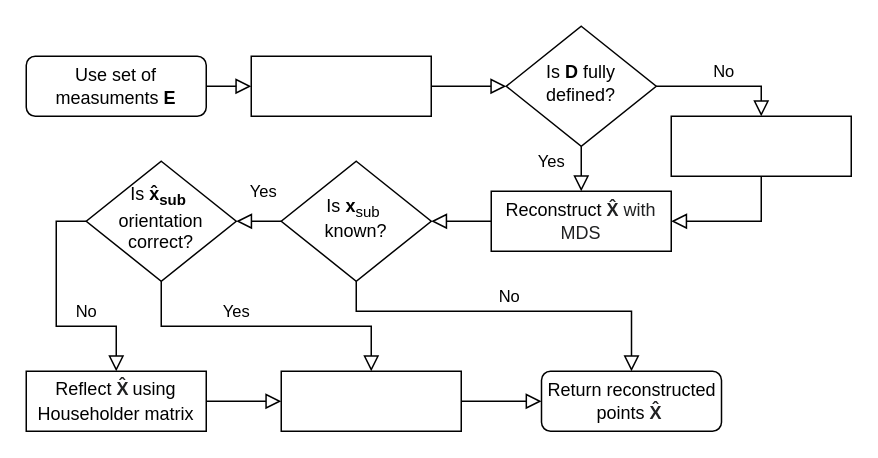
This 878x458 diagram has some shape labels left out. Here are the shapes that lost their labels. From the top down, the centre of each, then its label:
At (x=340, y=85): "Construct EDM D".
At (x=760, y=145): "Obtain fully defined EDM using SDP".
At (x=370, y=400): "Rotate X̂ using Kabsch algorithm".
